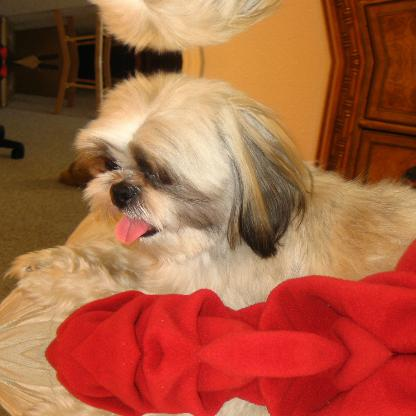Dog: (0, 70, 415, 352), (0, 354, 415, 415)
